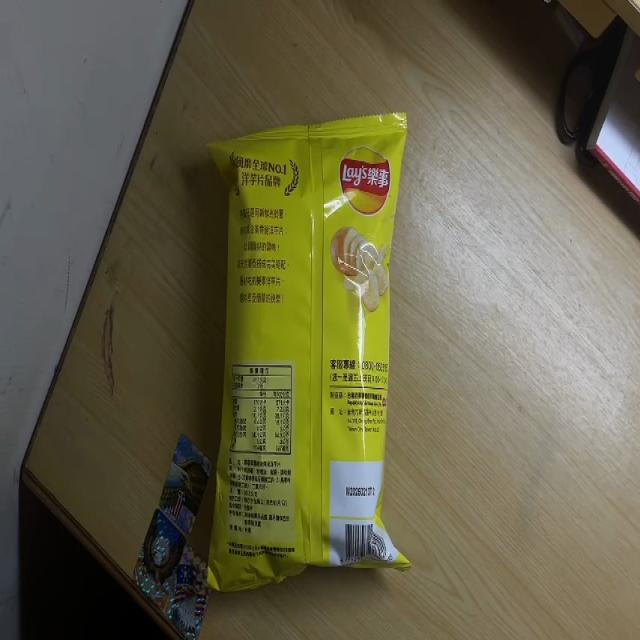Lay-s-original: (204, 109, 411, 588)
